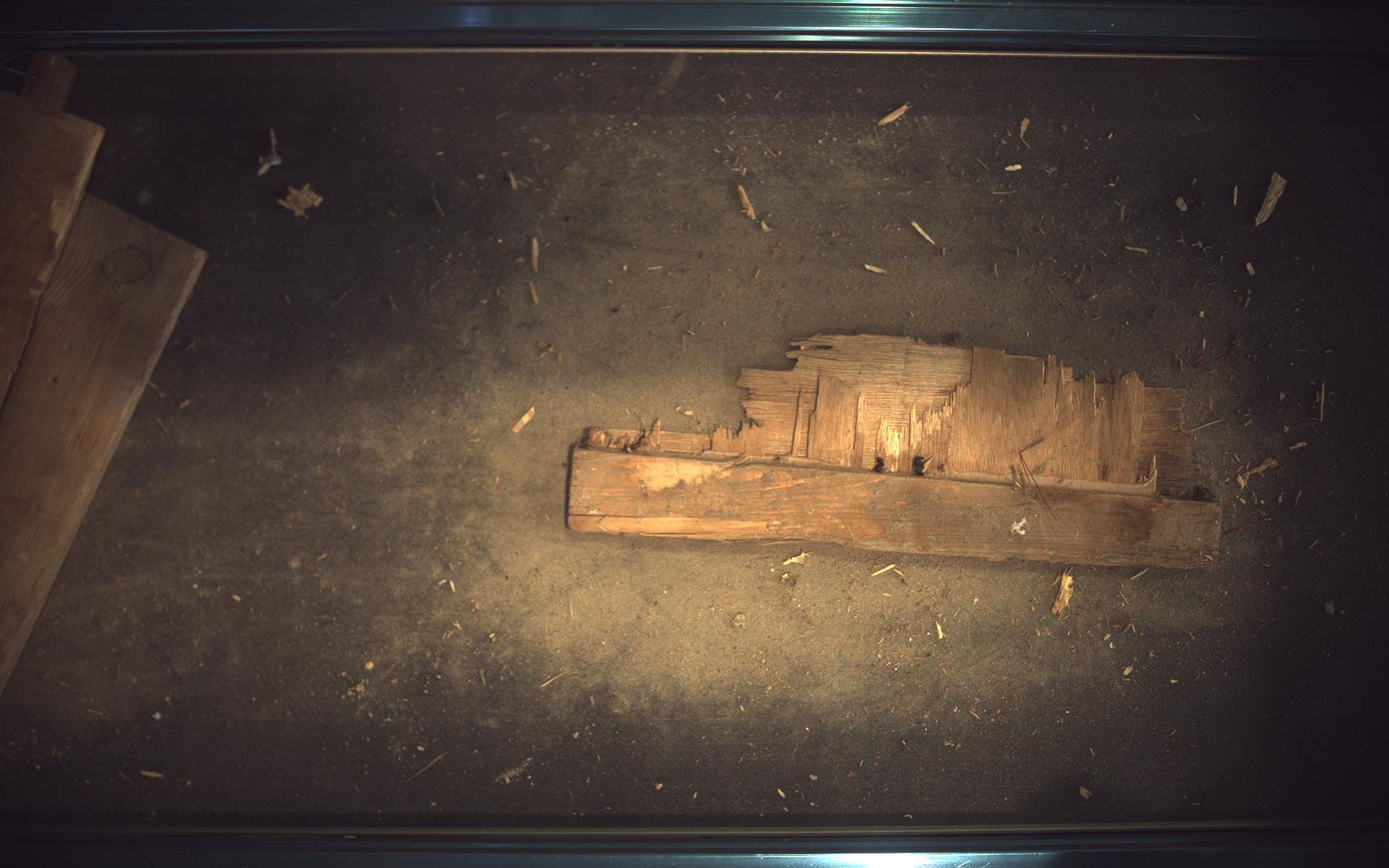wood: (569, 334, 1224, 569)
